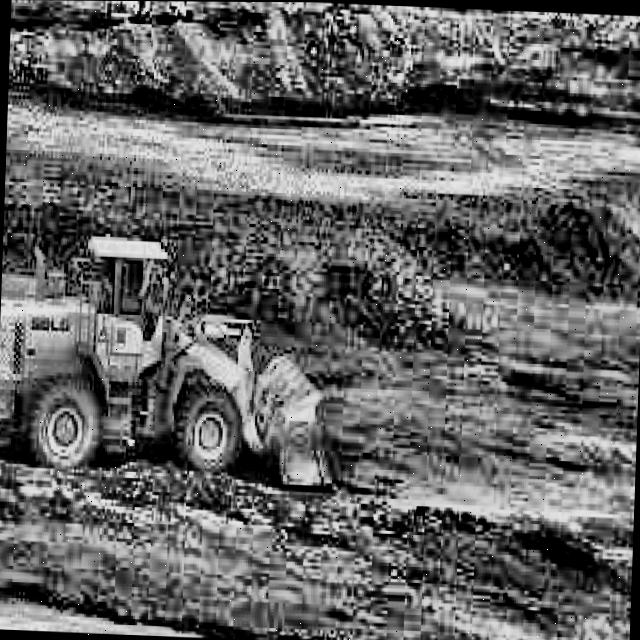buldozerpayloadergrader: (0, 238, 365, 486)
